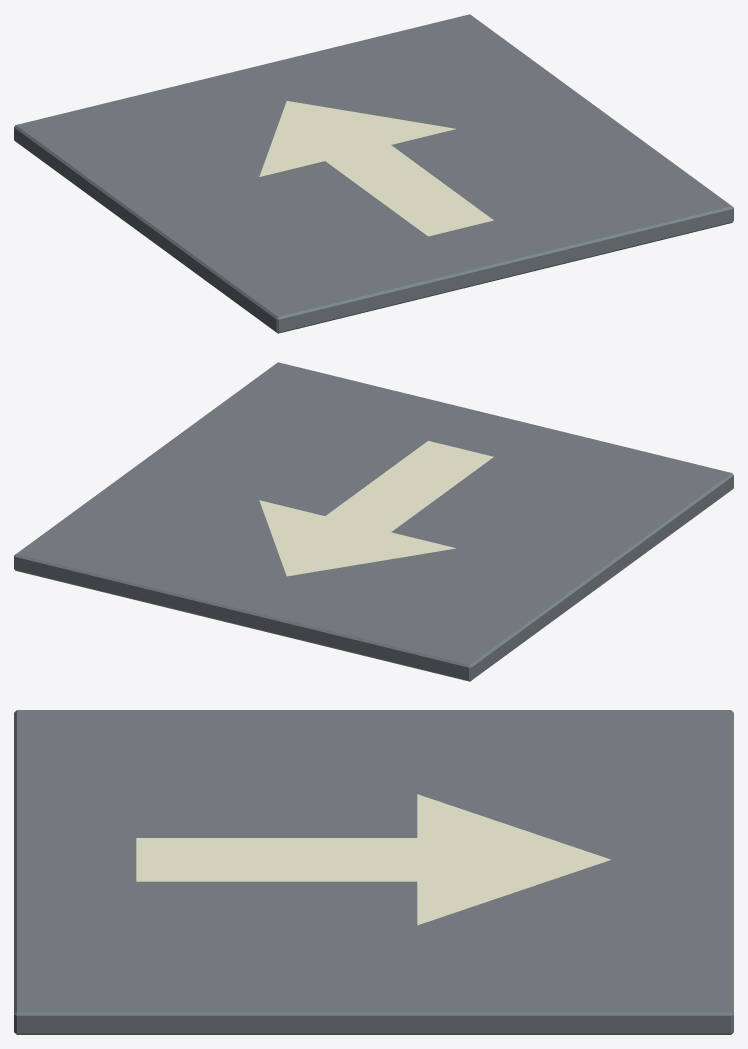
File: RoadArrowTile.fbx
3 renders of one model, top to bottom at view 1: azimuth 30°, elevation 25°; view 2: azimuth 150°, elevation 25°; view 3: azimuth 270°, elevation 25°, orthographic. The views are drawn at different scales.
Visible parts, largest first — view 1: RoadArrowTile; view 2: RoadArrowTile; view 3: RoadArrowTile.
Boxes of the visible parts, box(x1,y1,x2,y2) form: RoadArrowTile: box(14, 14, 733, 333); RoadArrowTile: box(14, 362, 733, 681); RoadArrowTile: box(14, 710, 733, 1034).
Bounding box in the file's own units: 200 × 7.4 × 200.
1 material, 1 textured.
